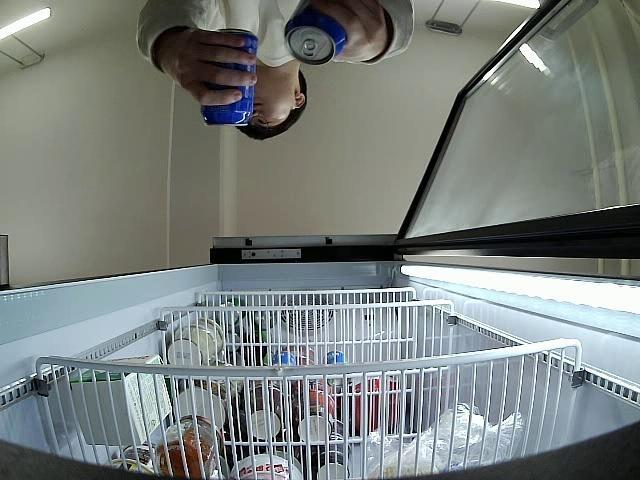13_pocariSweat: (200, 27, 256, 128), (284, 0, 349, 63)
